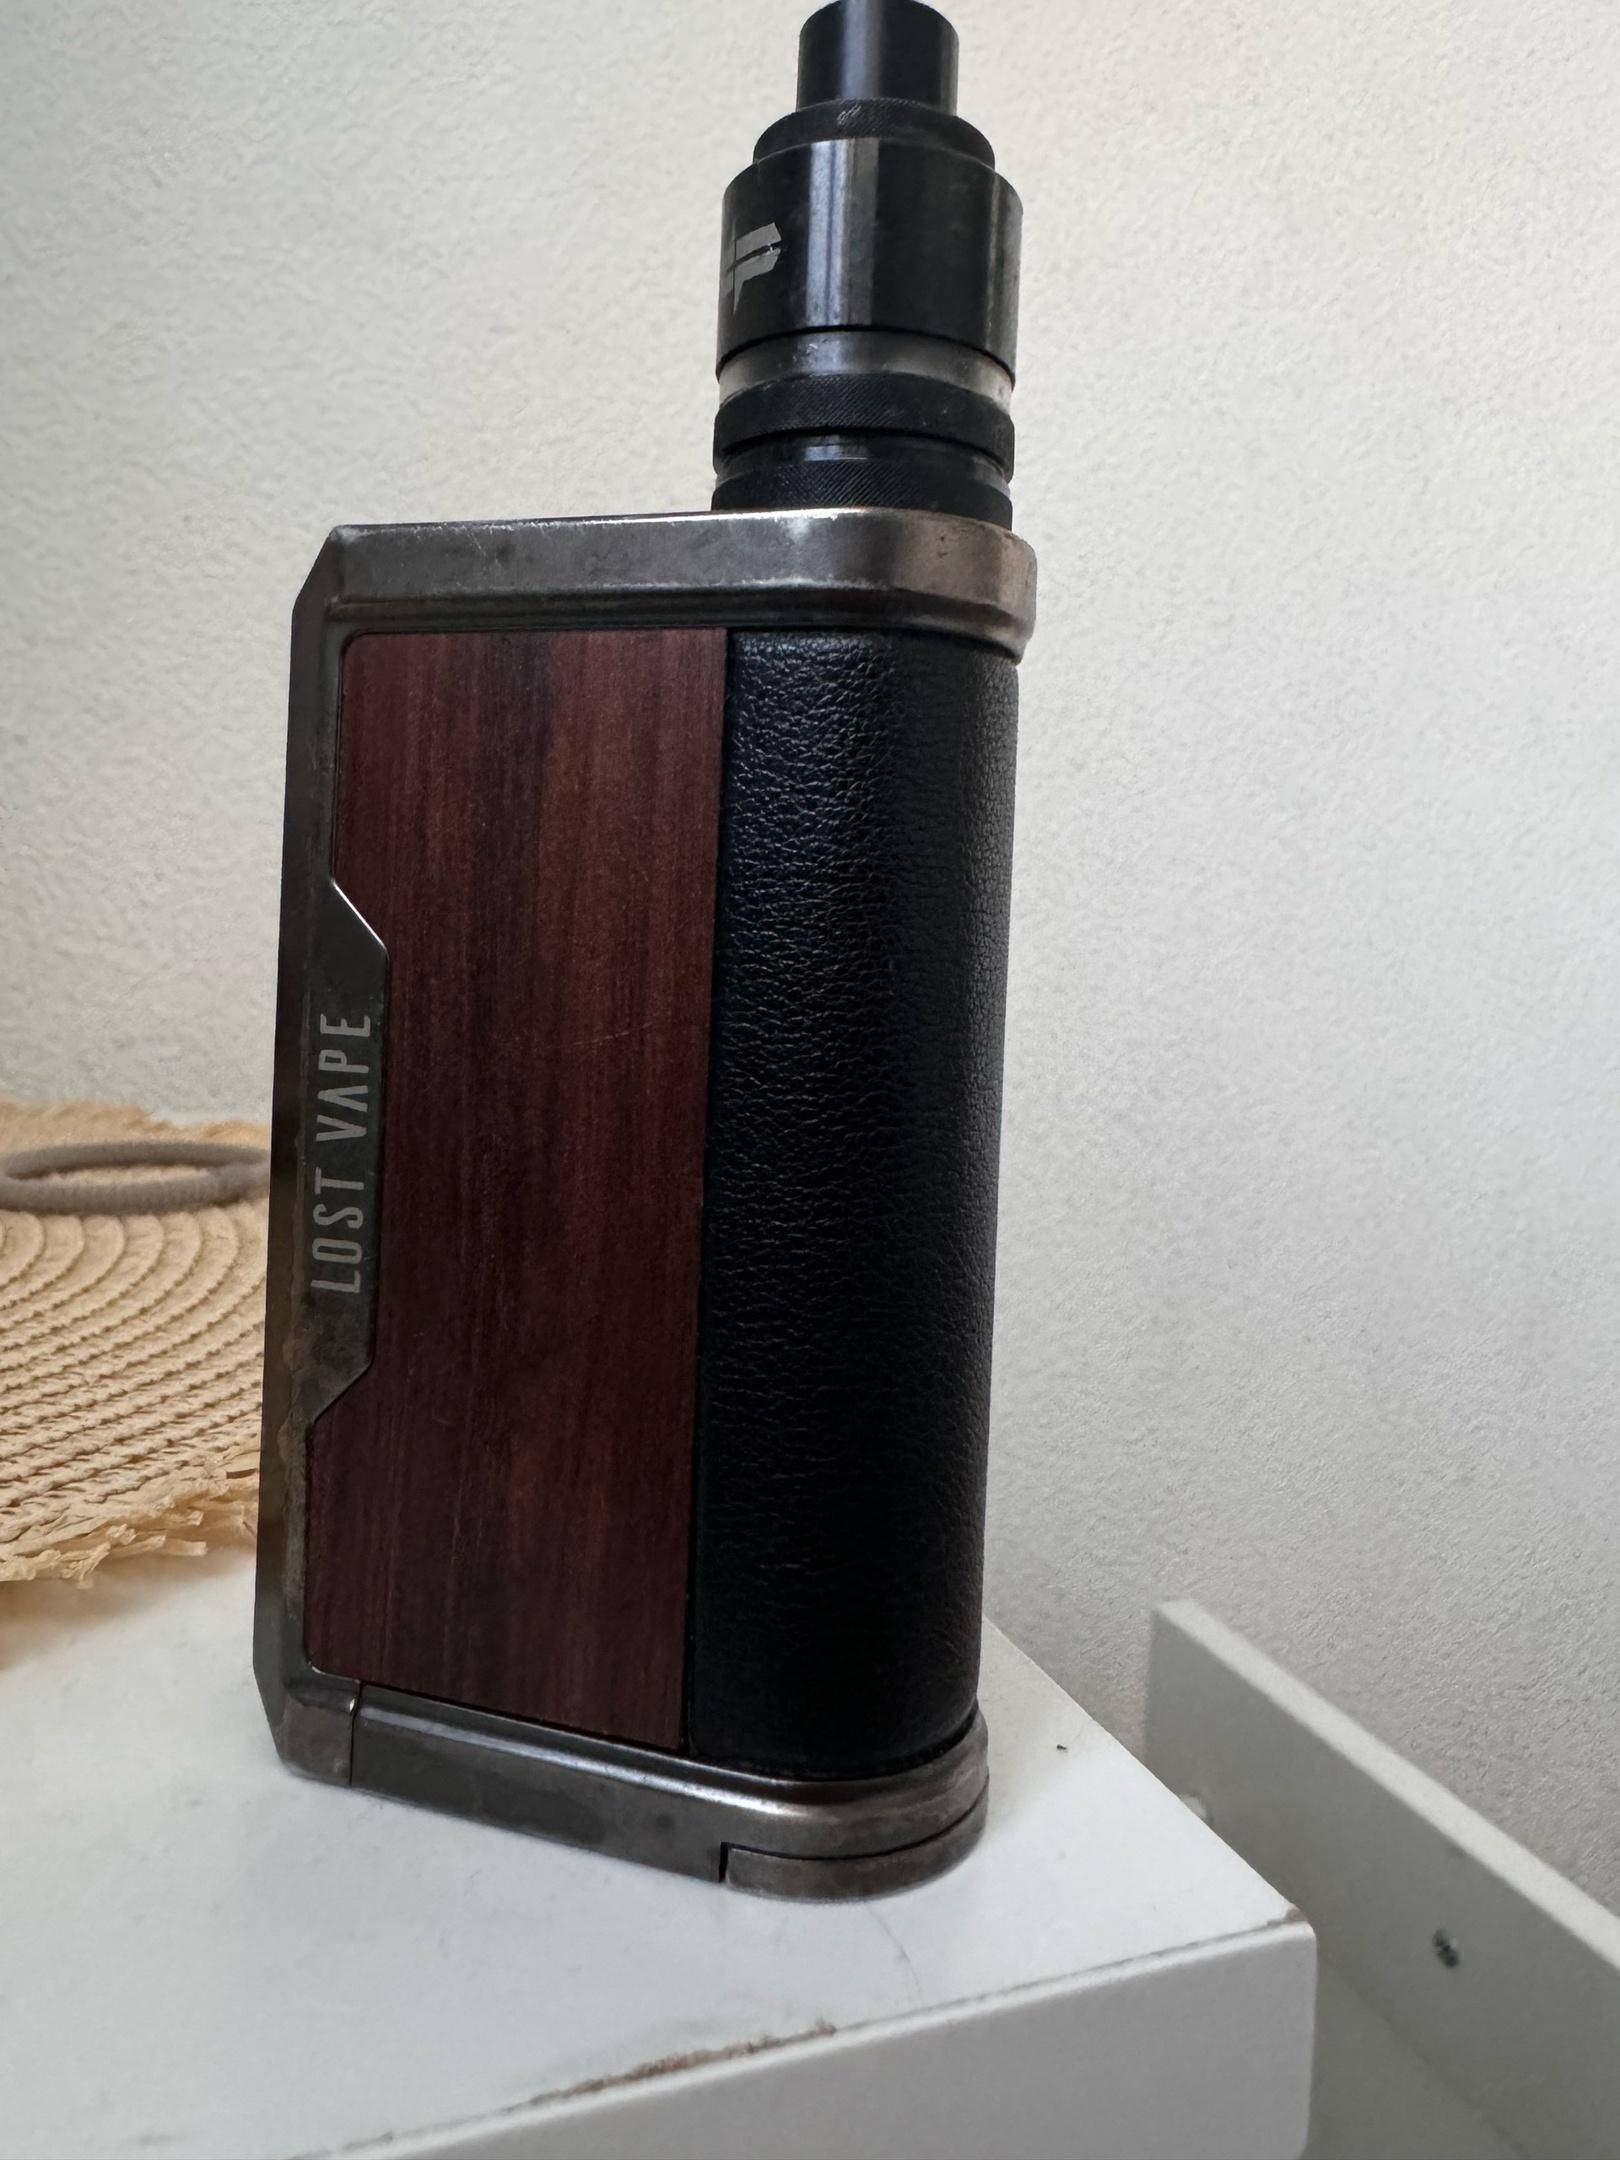Vape: (255, 0, 1035, 1895)
